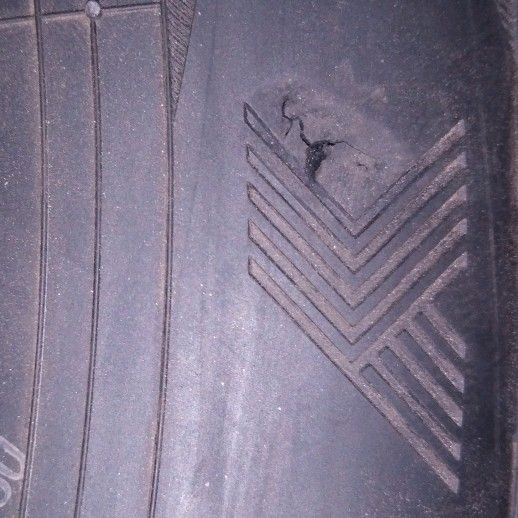cut: (282, 92, 344, 186)
